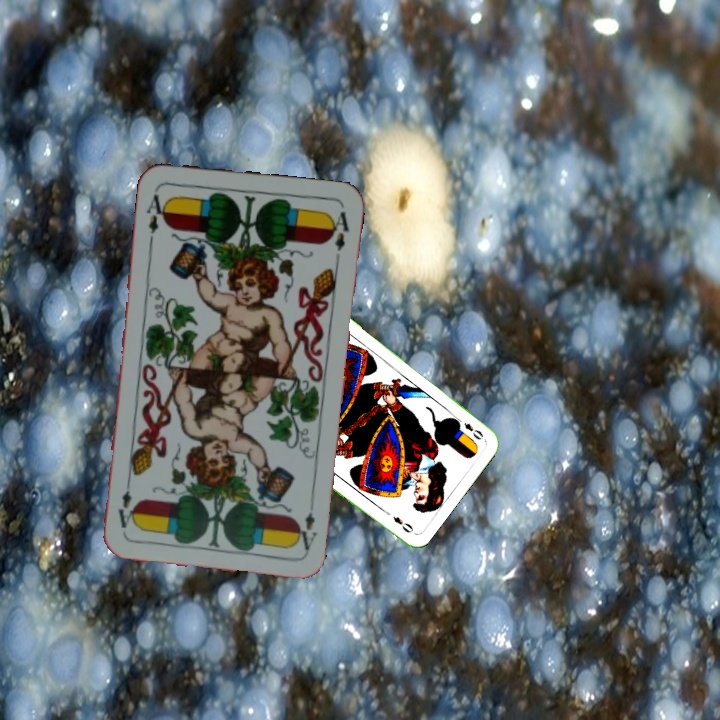EA: (142, 186, 170, 245), (292, 508, 320, 553)
EO: (451, 413, 486, 443)
